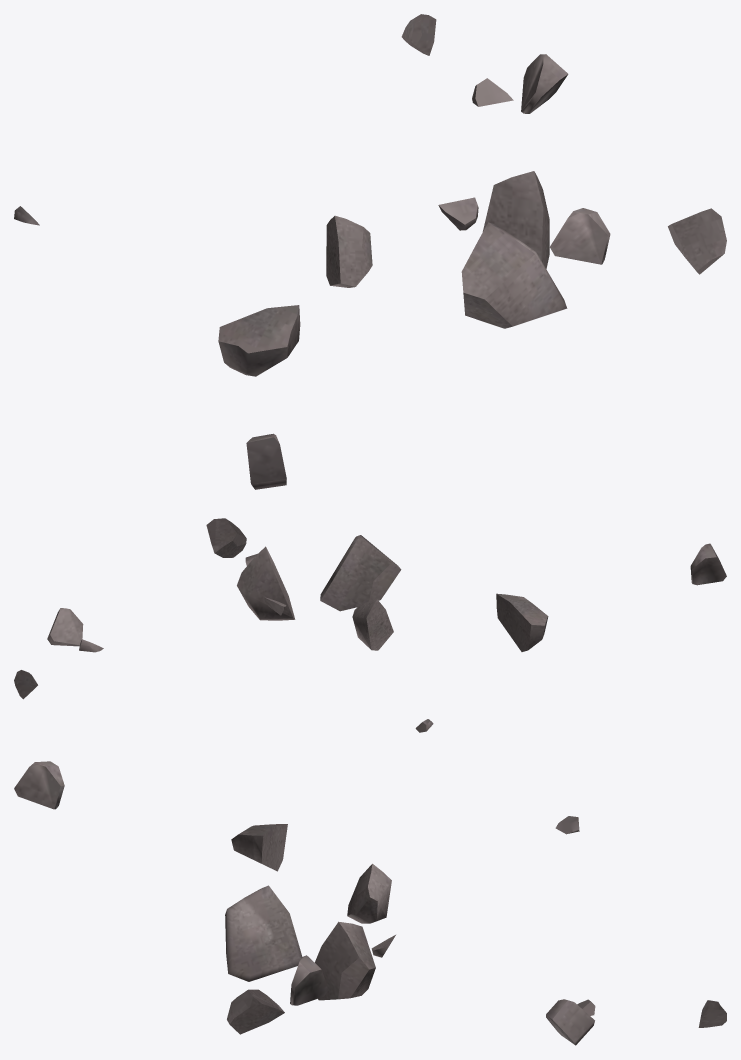
3 renders of one model, top to bottom at view 1: azimuth 30°, elevation 25°; view 2: azimuth 150°, elevation 25°; view 3: azimuth 270°, elevation 25°, orthographic. The views are drawn at different scales.
Visible parts, largest first — view 1: body0_model0_lod0_mesh0; view 2: body0_model0_lod0_mesh0; view 3: body0_model0_lod0_mesh0.
Part boxes in pixels (<box>): body0_model0_lod0_mesh0: <box>14,14,726,489</box>; body0_model0_lod0_mesh0: <box>14,518,726,732</box>; body0_model0_lod0_mesh0: <box>14,761,726,1045</box>.
Bounding box in the file's own units: 119 × 18.46 × 141.
Materials: 1 (1 with a texture image).
